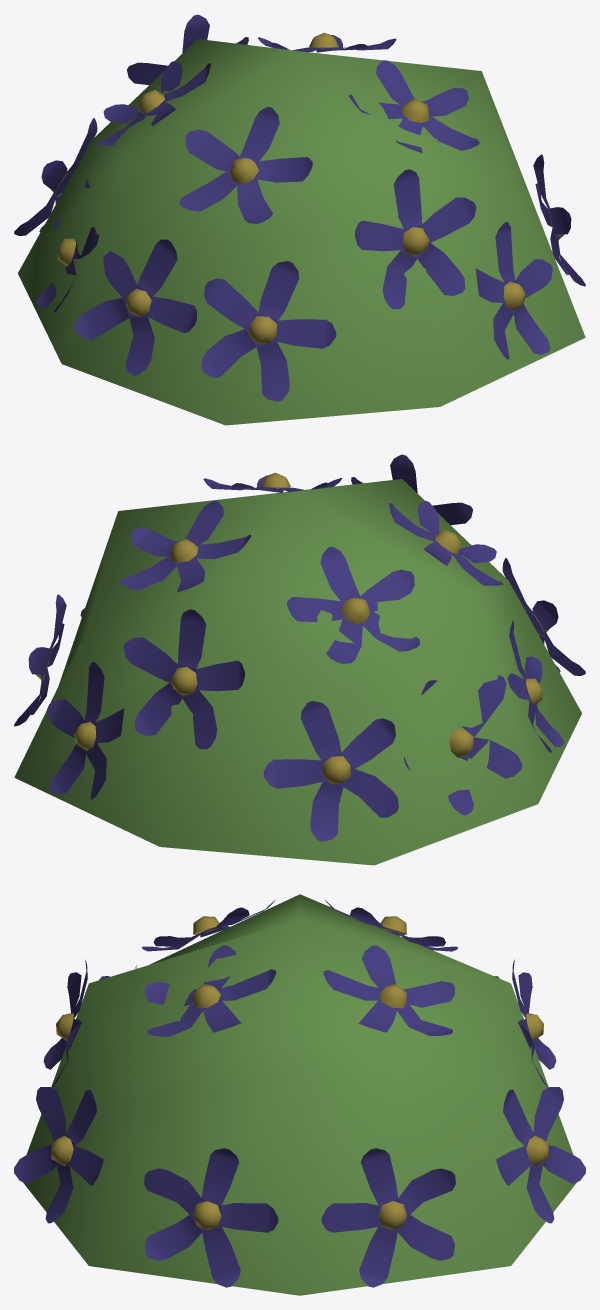
File: Flower2.fbx
The picture shows the model from 3 angles, top to bottom: view 1: azimuth 30°, elevation 25°; view 2: azimuth 150°, elevation 25°; view 3: azimuth 270°, elevation 25°; orthographic projection.
Visible parts, largest first — view 1: FlowerPourTech2; view 2: FlowerPourTech2; view 3: FlowerPourTech2.
Part boxes in pixels (x1,y1,x2,y2): FlowerPourTech2: [14, 14, 585, 425]; FlowerPourTech2: [14, 454, 585, 865]; FlowerPourTech2: [14, 894, 585, 1295].
Bounding box in the file's own units: 0.8082 × 0.4086 × 0.8213.
